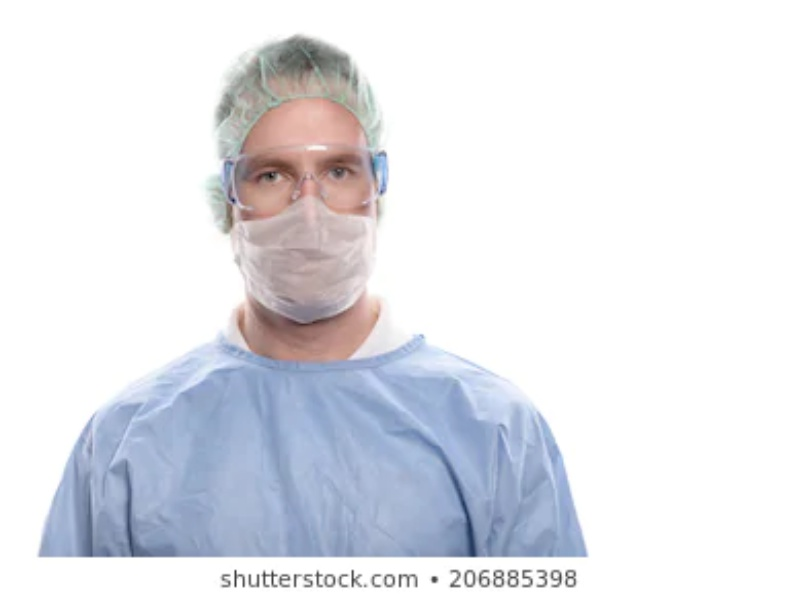ManaoArotava: (199, 37, 398, 360)
